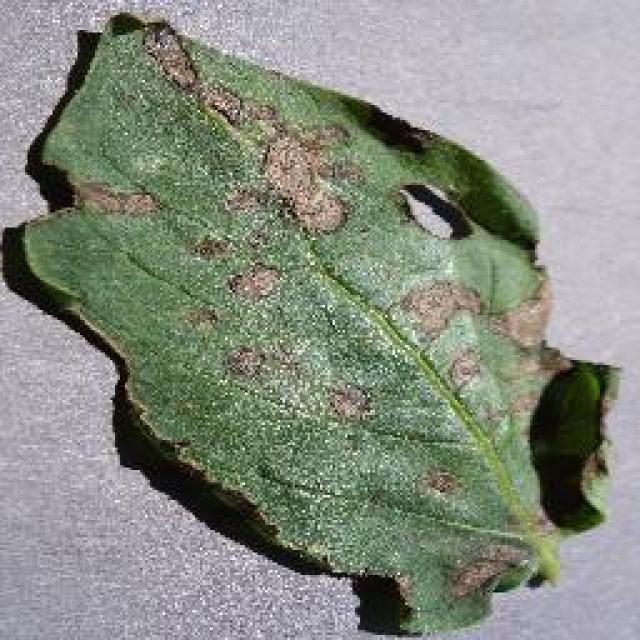early_blight: (8, 10, 622, 638)
